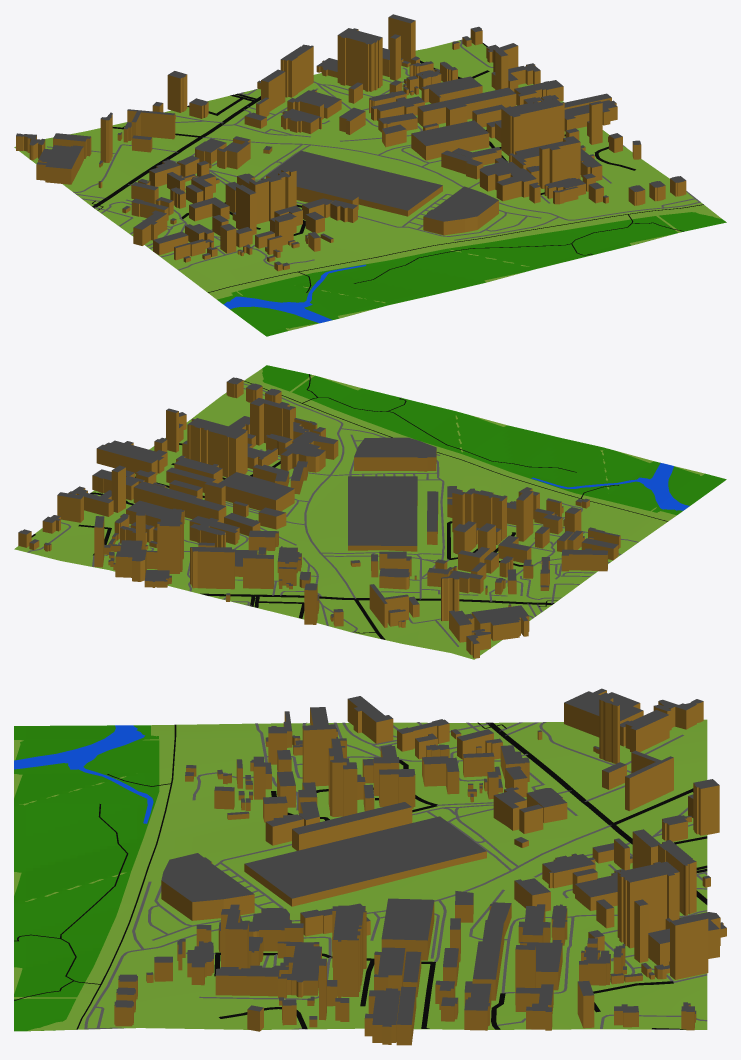
File: tile_03_01.glb
3 views of the same model, one above another, from view 1: azimuth 30°, elevation 25°; view 2: azimuth 150°, elevation 25°; view 3: azimuth 270°, elevation 25° (orthographic). The views are drawn at different scales.
Visible parts, largest first — view 1: Ub_small.osm_buildings_03_01, Terrain_03_01, Ub_small.osm_vegetation_03_01, Ub_small.osm_roads_service_03_01, Ub_small.osm_water_03_01, Ub_small.osm_paths_footway_03_01, Ub_small.osm_roads_trunk_03_01, Ub_small.osm_roads_residential_03_01; view 2: Ub_small.osm_buildings_03_01, Terrain_03_01, Ub_small.osm_vegetation_03_01, Ub_small.osm_roads_service_03_01, Ub_small.osm_water_03_01, Ub_small.osm_paths_footway_03_01, Ub_small.osm_roads_residential_03_01, Ub_small.osm_roads_trunk_03_01; view 3: Ub_small.osm_buildings_03_01, Terrain_03_01, Ub_small.osm_vegetation_03_01, Ub_small.osm_roads_service_03_01, Ub_small.osm_water_03_01, Ub_small.osm_roads_residential_03_01, Ub_small.osm_paths_footway_03_01, Ub_small.osm_roads_trunk_03_01.
Boxes of the visible parts, x1,y1,x2,y2 form: Ub_small.osm_buildings_03_01: (16, 14, 686, 271); Terrain_03_01: (14, 37, 721, 330); Ub_small.osm_vegetation_03_01: (217, 212, 726, 336); Ub_small.osm_roads_service_03_01: (47, 40, 700, 270); Ub_small.osm_water_03_01: (223, 264, 366, 323); Ub_small.osm_paths_footway_03_01: (92, 98, 703, 292); Ub_small.osm_roads_trunk_03_01: (92, 96, 260, 208); Ub_small.osm_roads_residential_03_01: (181, 43, 635, 235); Ub_small.osm_buildings_03_01: (18, 377, 620, 658); Terrain_03_01: (14, 369, 704, 659); Ub_small.osm_vegetation_03_01: (262, 365, 726, 515); Ub_small.osm_roads_service_03_01: (27, 383, 638, 646); Ub_small.osm_water_03_01: (531, 463, 689, 510); Ub_small.osm_paths_footway_03_01: (244, 374, 667, 633); Ub_small.osm_roads_residential_03_01: (31, 443, 523, 618); Ub_small.osm_roads_trunk_03_01: (200, 593, 554, 604); Ub_small.osm_buildings_03_01: (114, 688, 726, 1045); Terrain_03_01: (14, 719, 707, 1031); Ub_small.osm_vegetation_03_01: (14, 725, 159, 1031); Ub_small.osm_roads_service_03_01: (84, 722, 707, 1029); Ub_small.osm_water_03_01: (14, 725, 153, 823); Ub_small.osm_roads_residential_03_01: (214, 760, 707, 1029); Ub_small.osm_paths_footway_03_01: (14, 722, 693, 1029); Ub_small.osm_roads_trunk_03_01: (486, 722, 707, 904).
Bounding box in the file's own units: 1065 × 105 × 957.
